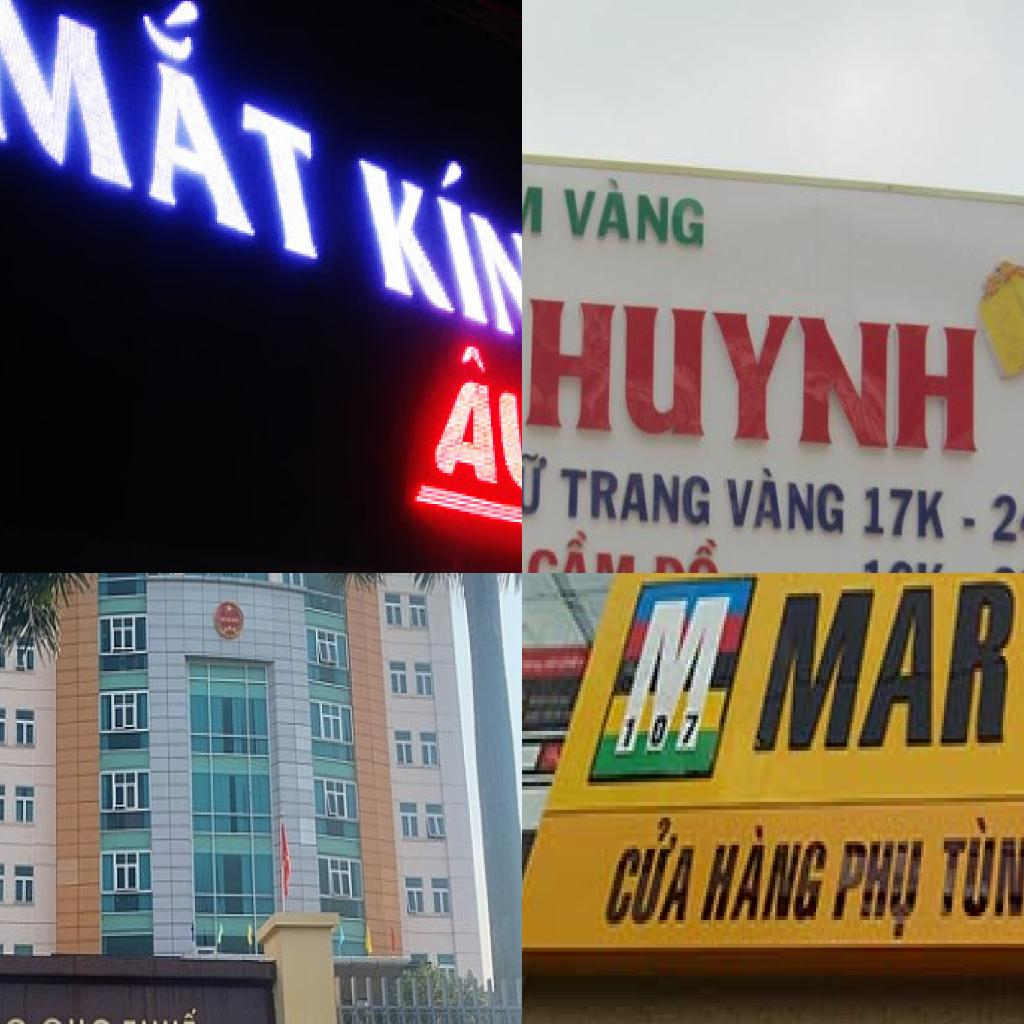text: (0, 0, 323, 269), (524, 294, 982, 458), (747, 573, 1024, 758), (349, 117, 522, 382), (611, 593, 737, 763), (427, 341, 522, 503), (696, 821, 839, 928), (598, 814, 704, 932), (826, 837, 932, 948), (560, 172, 706, 248), (934, 813, 1024, 924), (559, 465, 712, 528), (724, 465, 846, 535), (525, 525, 637, 573), (862, 486, 946, 544), (619, 707, 706, 755), (651, 534, 720, 573), (522, 447, 549, 516), (992, 492, 1024, 546), (122, 1005, 201, 1024), (862, 557, 945, 573), (41, 1015, 115, 1024)
